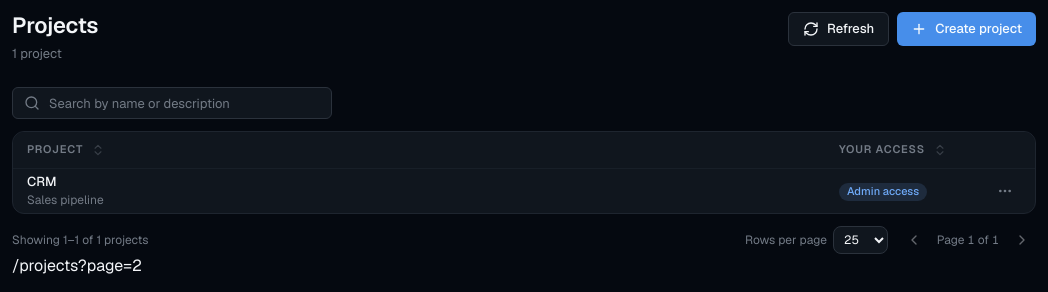
Test: ProjectListPage › debounces the search into the URL and resets the page
Type "billing" into the search field with placeholder "Search by name or description" at (172, 103), box [12,87,332,119]
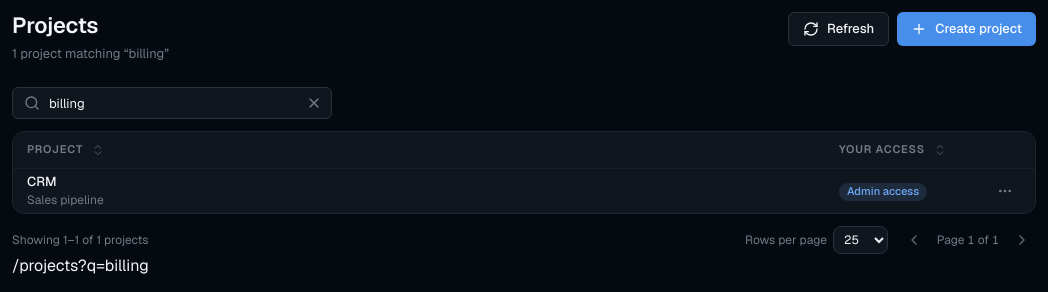
Now the text with test id "location" reads "/projects?q=billing", box [12,254,149,276]
